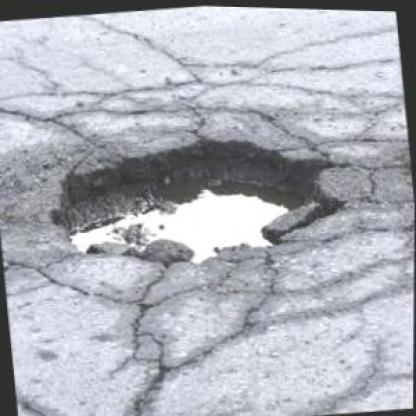pothole: (40, 110, 354, 287)
